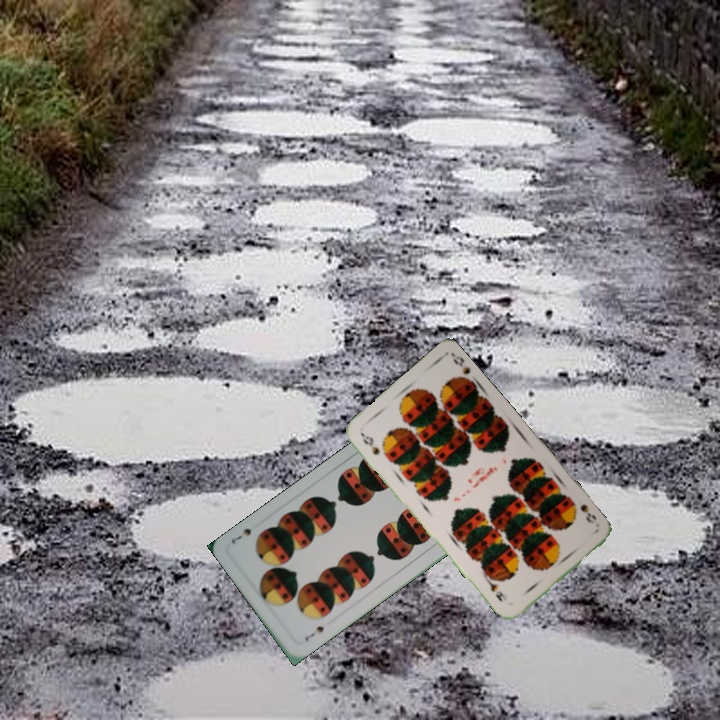S7: (301, 622, 326, 643)
S9: (568, 497, 599, 526), (358, 430, 382, 458)
